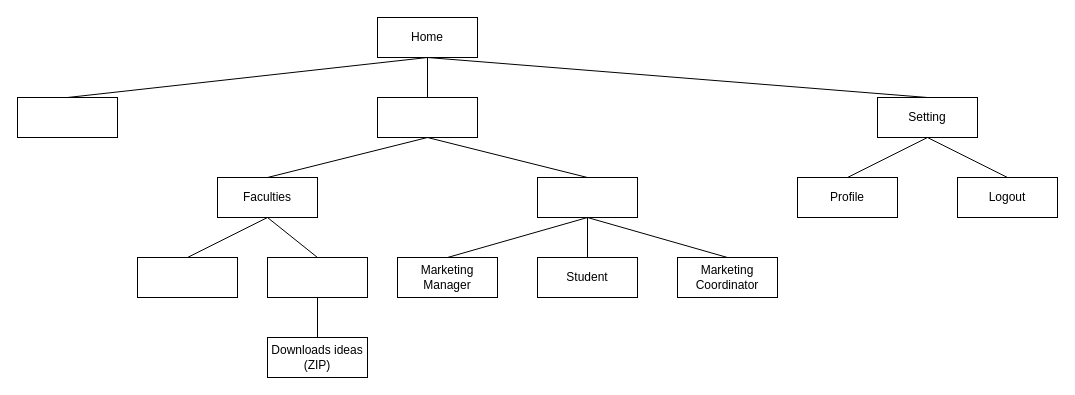
The diagram is 1075 pixels wide and 395 high, and some of its shapes have lost their labels. Each missing label, with the box of its shape:
Accounts: (536, 176, 638, 218)
Event: (376, 96, 478, 138)
Ideas: (266, 256, 368, 298)
Login/Register: (16, 96, 118, 138)
Setup first/final closure: (136, 256, 238, 298)
